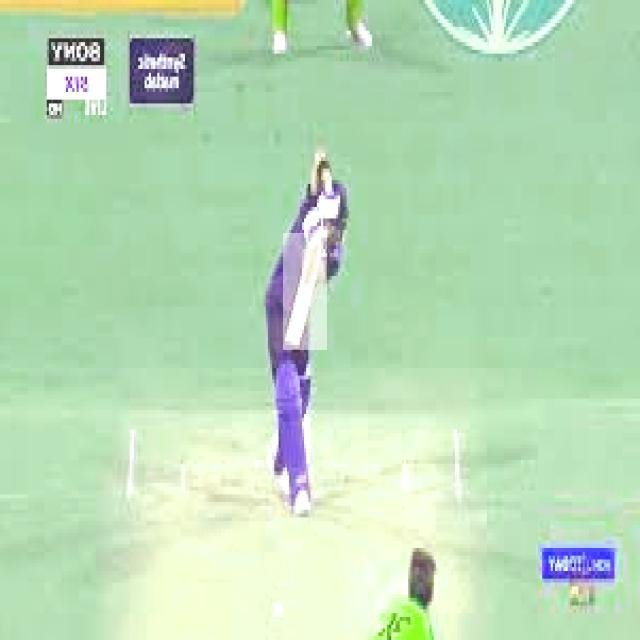bat: (280, 231, 320, 349)
toe: (271, 338, 312, 357)
